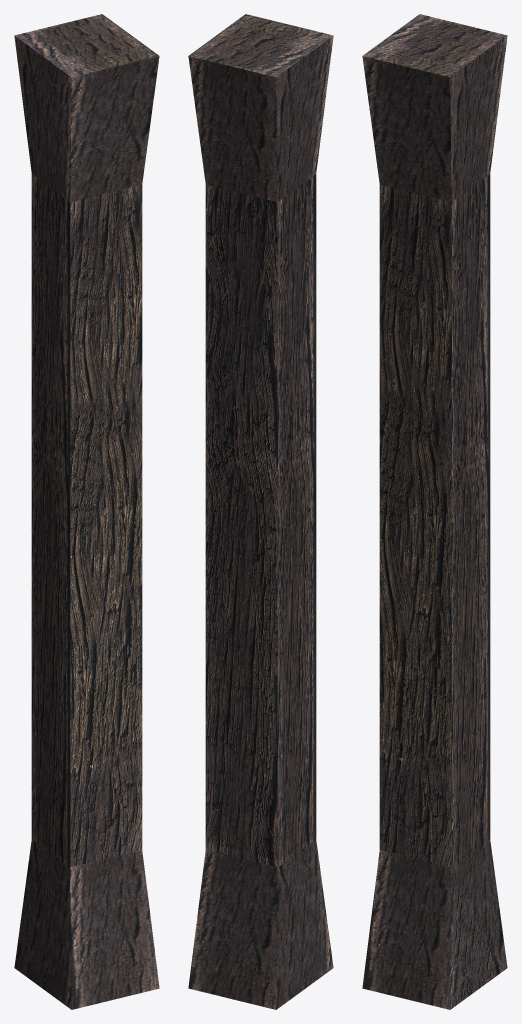
File: House 1 Ledge.FBX
The picture shows the model from 3 angles, left to right: view 1: azimuth 30°, elevation 25°; view 2: azimuth 150°, elevation 25°; view 3: azimuth 330°, elevation 25°; orthographic projection.
Parts seen in each view (by area): view 1: Box06; view 2: Box06; view 3: Box06.
Part boxes in pixels (x1=…): Box06: x1=14, y1=14, x2=159, y2=1009; Box06: x1=188, y1=14, x2=333, y2=1009; Box06: x1=362, y1=14, x2=507, y2=1009.
Size of the model in its own units: 23.3 by 236 by 26.31.
1 material, 1 textured.
